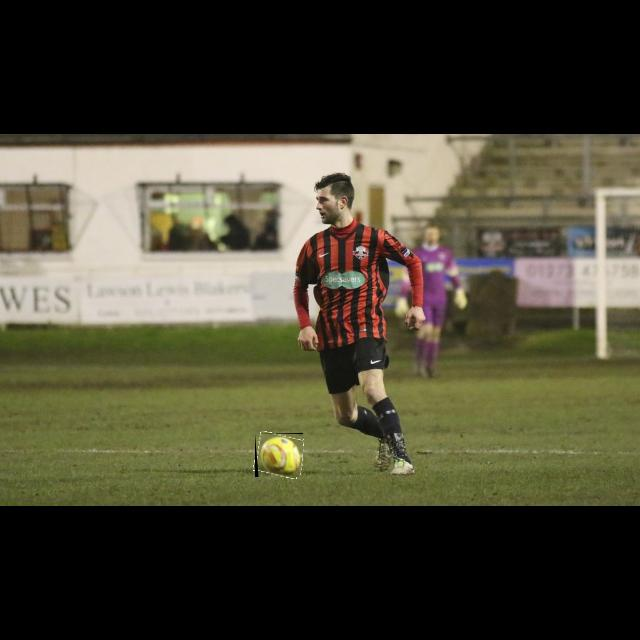Football: (255, 433, 303, 477)
